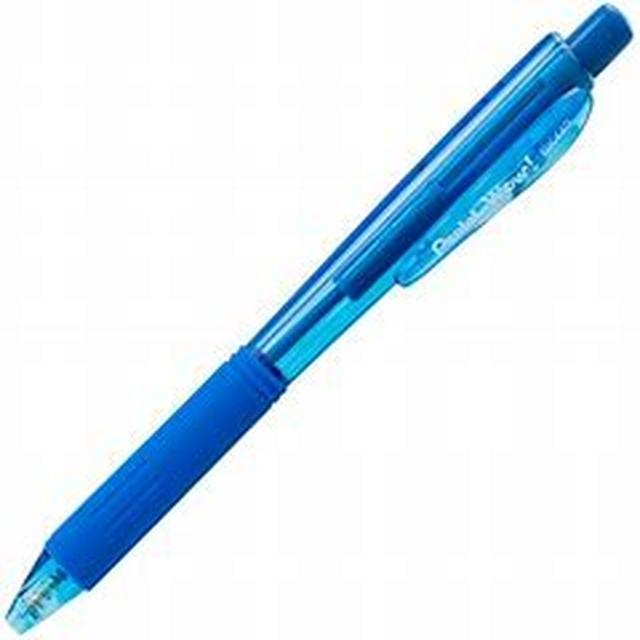pen: (1, 10, 624, 640)
